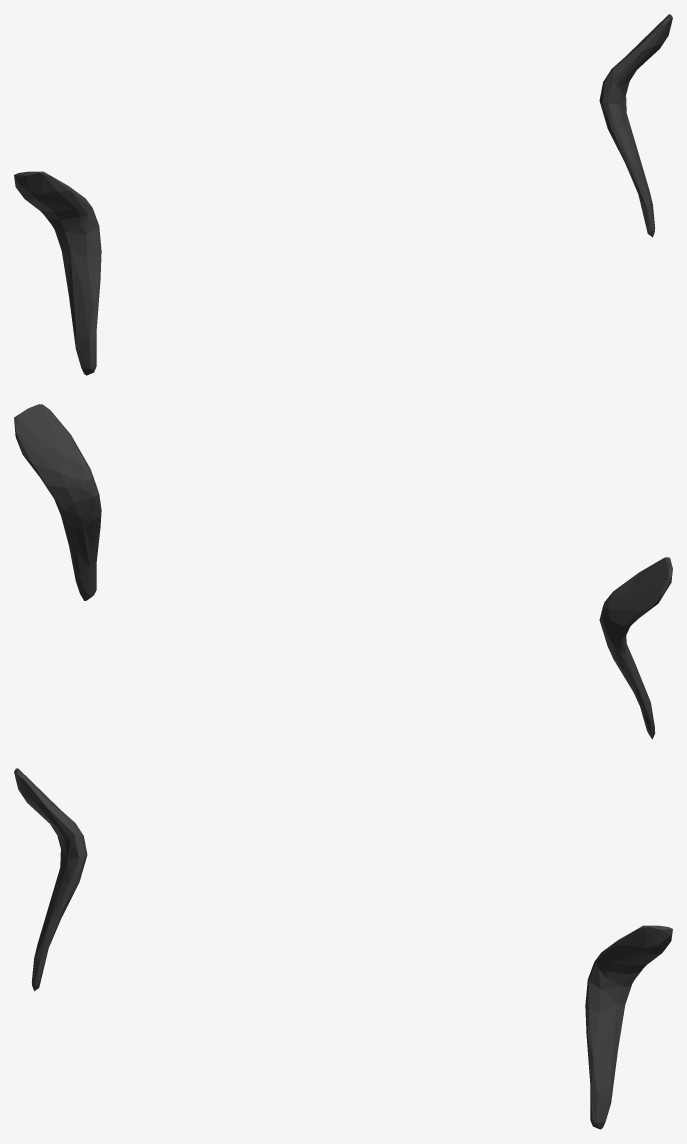
The model's file is m_articularis_humeri.glb.
3 renders of one model, top to bottom at view 1: azimuth 30°, elevation 25°; view 2: azimuth 150°, elevation 25°; view 3: azimuth 330°, elevation 25°, orthographic.
Parts seen in each view (by area): view 1: m_articularis_humeri; view 2: m_articularis_humeri; view 3: m_articularis_humeri.
Boxes of the visible parts, x1,y1,x2,y2 form: m_articularis_humeri: (14,14,672,375); m_articularis_humeri: (14,404,672,739); m_articularis_humeri: (14,768,672,1129).
Bounding box in the file's own units: 0.00377 × 0.0011 × 0.000376.
Materials: 1 (1 with a texture image).
